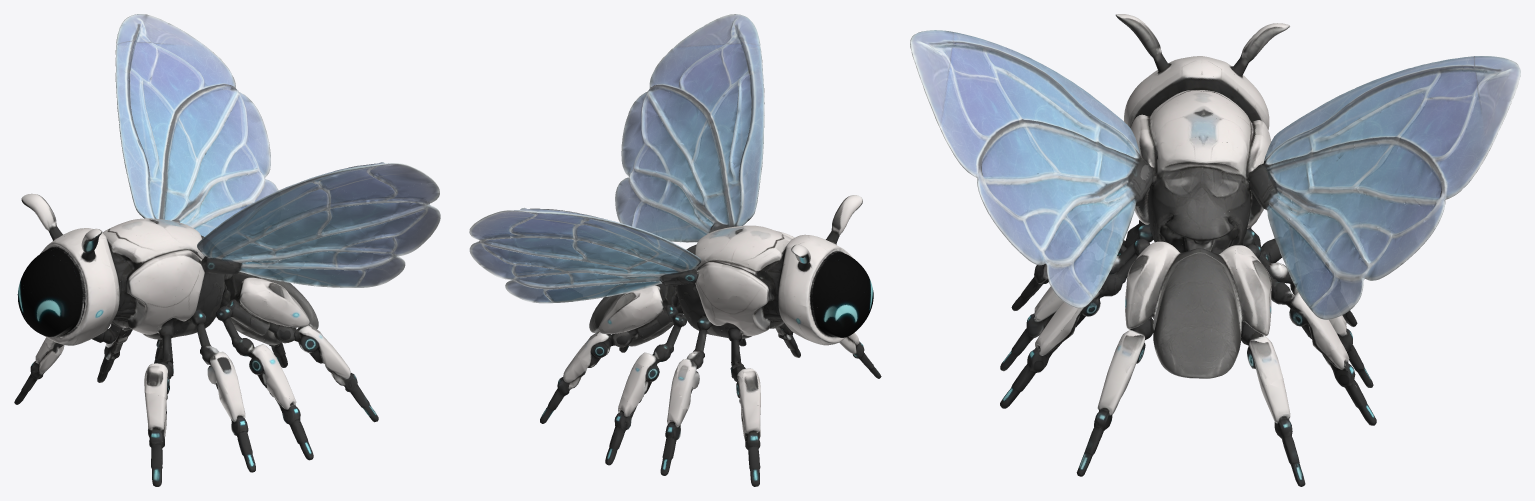
The model's file is FLY01_ROBOT_MESHY_RUNTIME_v1_1A_WINGFIX.glb.
3 views of the same model, side by side, from view 1: azimuth 30°, elevation 25°; view 2: azimuth 150°, elevation 25°; view 3: azimuth 270°, elevation 25° (orthographic). The views are drawn at different scales.
Parts seen in each view (by area): view 1: MESHY_WING_NEG, MESHY_WING_POS, MESHY_HEAD, MESHY_THORAX, MESHY_R2_LOWER, MESHY_RIGHT_WING_RESCUED_R3_UPPER, MESHY_R2_UPPER, MESHY_LEFT_WING_RESCUED_L3_UPPER, MESHY_RIGHT_WING_RESCUED_R2_UPPER, MESHY_R1_UPPER, MESHY_R3_UPPER, MESHY_REAR (+8 smaller); view 2: MESHY_WING_POS, MESHY_HEAD, MESHY_WING_NEG, MESHY_THORAX, MESHY_L2_LOWER, MESHY_RIGHT_WING_RESCUED_R3_UPPER, MESHY_L2_UPPER, MESHY_LEFT_WING_RESCUED_L3_UPPER, MESHY_REAR, MESHY_RIGHT_WING_RESCUED_R2_UPPER, MESHY_L1_LOWER, MESHY_L3_UPPER (+8 smaller); view 3: MESHY_WING_NEG, MESHY_WING_POS, MESHY_THORAX, MESHY_REAR, MESHY_HEAD, MESHY_LEFT_WING_RESCUED_L3_UPPER, MESHY_RIGHT_WING_RESCUED_R3_UPPER, MESHY_R2_LOWER, MESHY_RIGHT_WING_RESCUED_R2_UPPER, MESHY_L2_UPPER, MESHY_L2_LOWER, MESHY_RIGHT_WING_RESCUED_REAR (+8 smaller).
Boxes of the visible parts, x1=… form: MESHY_WING_NEG: x1=115, y1=14, x2=270, y2=221; MESHY_WING_POS: x1=215, y1=162, x2=440, y2=265; MESHY_HEAD: x1=17, y1=193, x2=149, y2=345; MESHY_THORAX: x1=118, y1=218, x2=300, y2=341; MESHY_R2_LOWER: x1=217, y1=350, x2=313, y2=472; MESHY_RIGHT_WING_RESCUED_R3_UPPER: x1=238, y1=236, x2=400, y2=283; MESHY_R2_UPPER: x1=187, y1=251, x2=272, y2=400; MESHY_LEFT_WING_RESCUED_L3_UPPER: x1=180, y1=159, x2=271, y2=236; MESHY_RIGHT_WING_RESCUED_R2_UPPER: x1=199, y1=231, x2=295, y2=274; MESHY_R1_UPPER: x1=144, y1=286, x2=199, y2=400; MESHY_R3_UPPER: x1=256, y1=293, x2=356, y2=380; MESHY_REAR: x1=232, y1=201, x2=318, y2=349; MESHY_WING_POS: x1=621, y1=14, x2=764, y2=205; MESHY_HEAD: x1=744, y1=195, x2=873, y2=345; MESHY_WING_NEG: x1=469, y1=207, x2=683, y2=282; MESHY_THORAX: x1=632, y1=225, x2=794, y2=344; MESHY_L2_LOWER: x1=605, y1=366, x2=699, y2=475; MESHY_RIGHT_WING_RESCUED_R3_UPPER: x1=620, y1=163, x2=711, y2=242; MESHY_L2_UPPER: x1=631, y1=265, x2=717, y2=378; MESHY_LEFT_WING_RESCUED_L3_UPPER: x1=510, y1=260, x2=660, y2=296; MESHY_REAR: x1=532, y1=199, x2=682, y2=346; MESHY_RIGHT_WING_RESCUED_R2_UPPER: x1=689, y1=184, x2=755, y2=232; MESHY_L1_LOWER: x1=736, y1=368, x2=760, y2=486; MESHY_L3_UPPER: x1=577, y1=287, x2=653, y2=367; MESHY_WING_NEG: x1=1287, y1=56, x2=1520, y2=280; MESHY_WING_POS: x1=910, y1=30, x2=1116, y2=265; MESHY_THORAX: x1=1125, y1=95, x2=1271, y2=321; MESHY_REAR: x1=1087, y1=211, x2=1334, y2=378; MESHY_HEAD: x1=1115, y1=14, x2=1289, y2=142; MESHY_LEFT_WING_RESCUED_L3_UPPER: x1=1266, y1=190, x2=1363, y2=304; MESHY_RIGHT_WING_RESCUED_R3_UPPER: x1=1049, y1=179, x2=1137, y2=304; MESHY_R2_LOWER: x1=1000, y1=286, x2=1098, y2=408; MESHY_RIGHT_WING_RESCUED_R2_UPPER: x1=1086, y1=112, x2=1149, y2=207; MESHY_L2_UPPER: x1=1241, y1=154, x2=1316, y2=326; MESHY_L2_LOWER: x1=1289, y1=283, x2=1376, y2=425; MESHY_RIGHT_WING_RESCUED_REAR: x1=1071, y1=215, x2=1117, y2=307.
Bounding box in the file's own units: 3.48 × 3.33 × 4.44.
2 materials, 2 textured.
